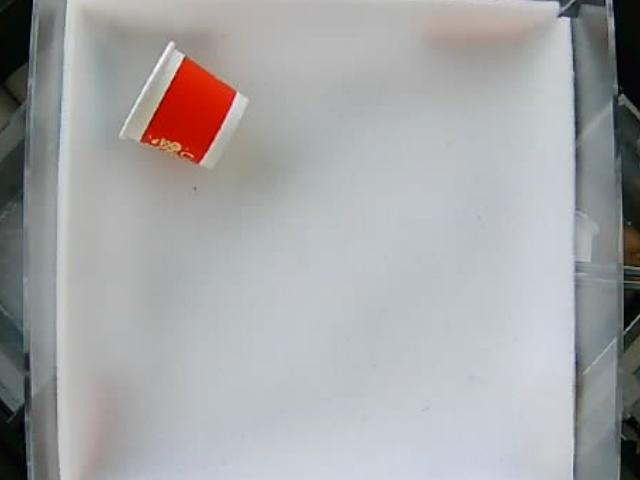Cup: (120, 38, 251, 171)
